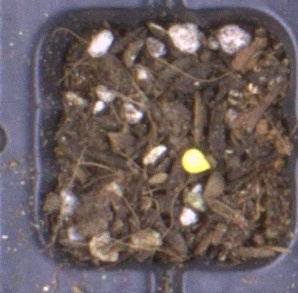chilli seed: (181, 148, 211, 174)
